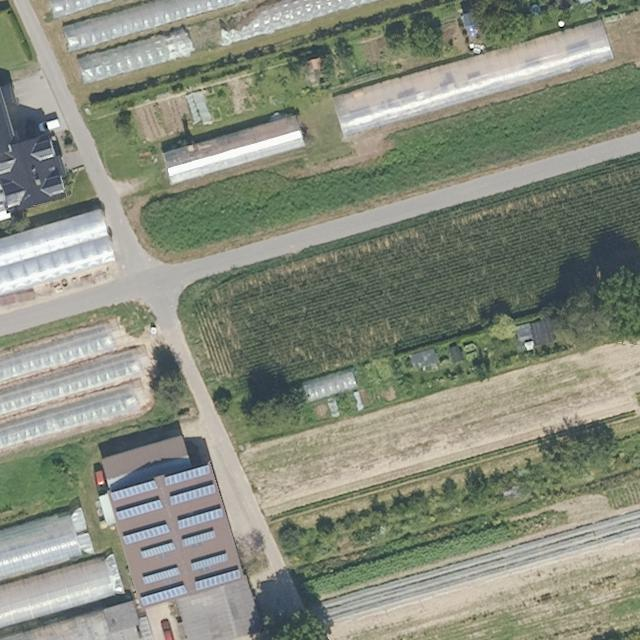PV: (121, 522, 171, 547), (140, 584, 189, 608), (194, 568, 241, 593), (164, 464, 212, 488), (169, 483, 217, 507), (176, 507, 224, 531), (115, 498, 165, 521), (110, 480, 159, 502), (190, 552, 230, 573), (141, 566, 182, 586), (181, 529, 217, 549), (140, 541, 177, 560)
